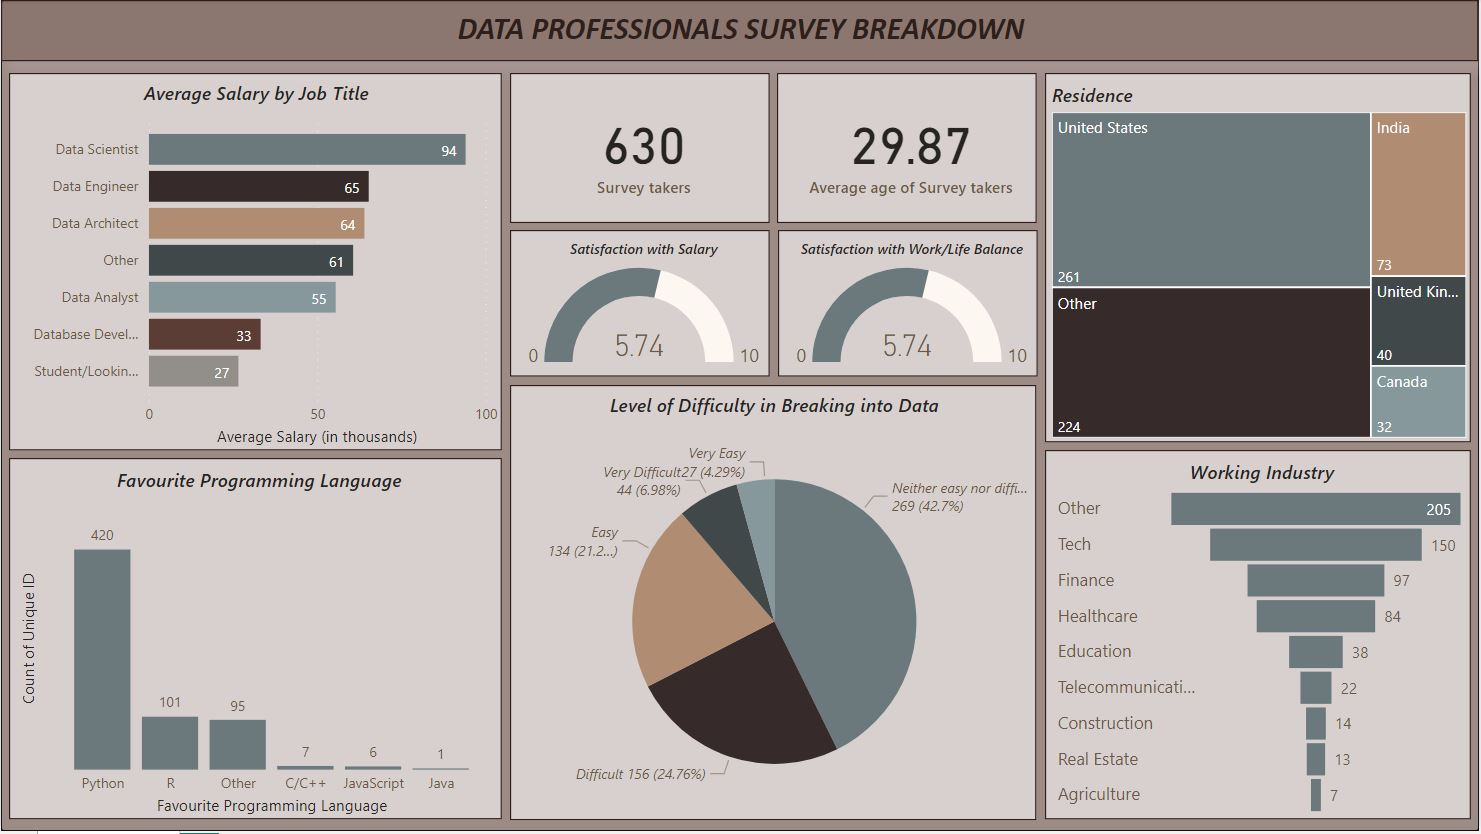

This screenshot's page, from the dashboard's own definition file:
{"tool":"powerbi","page":{"name":"Survey Breakdown","canvas":[1280,720],"ordinal":0},"visuals":[{"type":"textbox","box":[0,0,1280,52.5],"z":0},{"type":"card","fields":{"Values":["Count(Data Professional Survey.Unique ID)"]},"box":[440.9,63,224.5,130],"z":1000},{"type":"card","fields":{"Values":["Avg(Data Professional Survey.Q10 - Current Age)"]},"box":[672.5,63,224.5,130],"z":2000},{"type":"barChart","title":"Average Salary by Job Title","fields":{"Category":["Data Professional Survey.Q1 - Which Title Best Fits your Current Role?.1"],"Y":["Avg(Data Professional Survey.Average Salary)"],"Series":["Data Professional Survey.Q1 - Which Title Best Fits your Current Role?.1"]},"box":[7.1,63,426.7,327.1],"z":3000},{"type":"columnChart","title":"Favourite Programming Language","fields":{"Category":["Data Professional Survey.Q5 - Favorite Programming Language.1"],"Y":["CountNonNull(Data Professional Survey.Unique ID)"]},"box":[7.1,397.2,426.7,312.9],"z":4000},{"type":"treemap","title":"Residence","fields":{"Group":["Data Professional Survey.Q11 - Which Country do you live in?.1"],"Values":["CountNonNull(Data Professional Survey.Q11 - Which Country do you live in?.1)"]},"box":[904.1,63,368.8,320],"z":5000},{"type":"gauge","title":"Satisfaction with Work/Life Balance","fields":{"Y":["Avg(Data Professional Survey.Q6 - How Happy are you in your Current Position with the following? (Work/Life Balance))"],"MinValue":["Min(Data Professional Survey.Q6 - How Happy are you in your Current Position with the following? (Work/Life Balance))"],"MaxValue":["Max(Data Professional Survey.Q6 - How Happy are you in your Current Position with the following? (Work/Life Balance))1"]},"box":[672.8,199.6,224.9,127.4],"z":6000},{"type":"gauge","title":"Satisfaction with Salary","fields":{"Y":["Avg(Data Professional Survey.Q6 - How Happy are you in your Current Position with the following? (Work/Life Balance))"],"MinValue":["Min(Data Professional Survey.Q6 - How Happy are you in your Current Position with the following? (Work/Life Balance))"],"MaxValue":["Max(Data Professional Survey.Q6 - How Happy are you in your Current Position with the following? (Work/Life Balance))1"]},"box":[441.3,199.6,224.9,127.4],"z":7000},{"type":"pieChart","title":"Level of Difficulty in Breaking into Data","fields":{"Category":["Data Professional Survey.Q7 - How difficult was it for you to break into Data?"],"Y":["CountNonNull(Data Professional Survey.Q7 - How difficult was it for you to break into Data?)"]},"box":[441.3,333.6,456.3,376.7],"z":8000},{"type":"funnel","title":"Working Industry","fields":{"Y":["CountNonNull(Data Professional Survey.Q4 - What Industry do you work in?.1)"],"Category":["Data Professional Survey.Q4 - What Industry do you work in?.1"]},"box":[904.2,389.8,369.2,320.5],"z":9000}]}

Visuals, with their boxes in screenshot pixels (x1, y1, x2, y2), scaled from the page's 1280x720 canvas onto the 1481x834 screenshot:
textbox: (left=0, top=0, right=1480, bottom=61)
card - Count(Data Professional Survey.Unique ID): (left=510, top=73, right=770, bottom=224)
card - Avg(Data Professional Survey.Q10 - Current Age): (left=778, top=73, right=1038, bottom=224)
"Average Salary by Job Title" barChart: (left=8, top=73, right=502, bottom=452)
"Favourite Programming Language" columnChart: (left=8, top=460, right=502, bottom=823)
"Residence" treemap: (left=1046, top=73, right=1473, bottom=444)
"Satisfaction with Work/Life Balance" gauge: (left=778, top=231, right=1039, bottom=379)
"Satisfaction with Salary" gauge: (left=511, top=231, right=771, bottom=379)
"Level of Difficulty in Breaking into Data" pieChart: (left=511, top=386, right=1039, bottom=823)
"Working Industry" funnel: (left=1046, top=452, right=1473, bottom=823)
